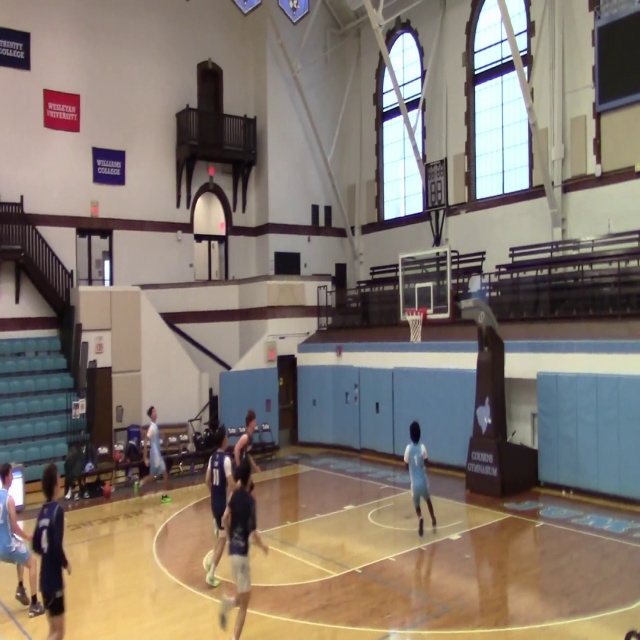Basketball: (202, 549, 215, 572)
